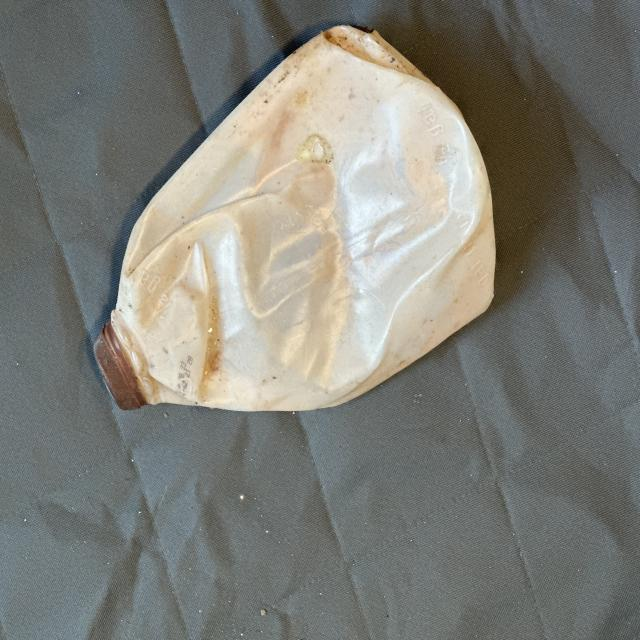milk-jug: (95, 26, 498, 412)
